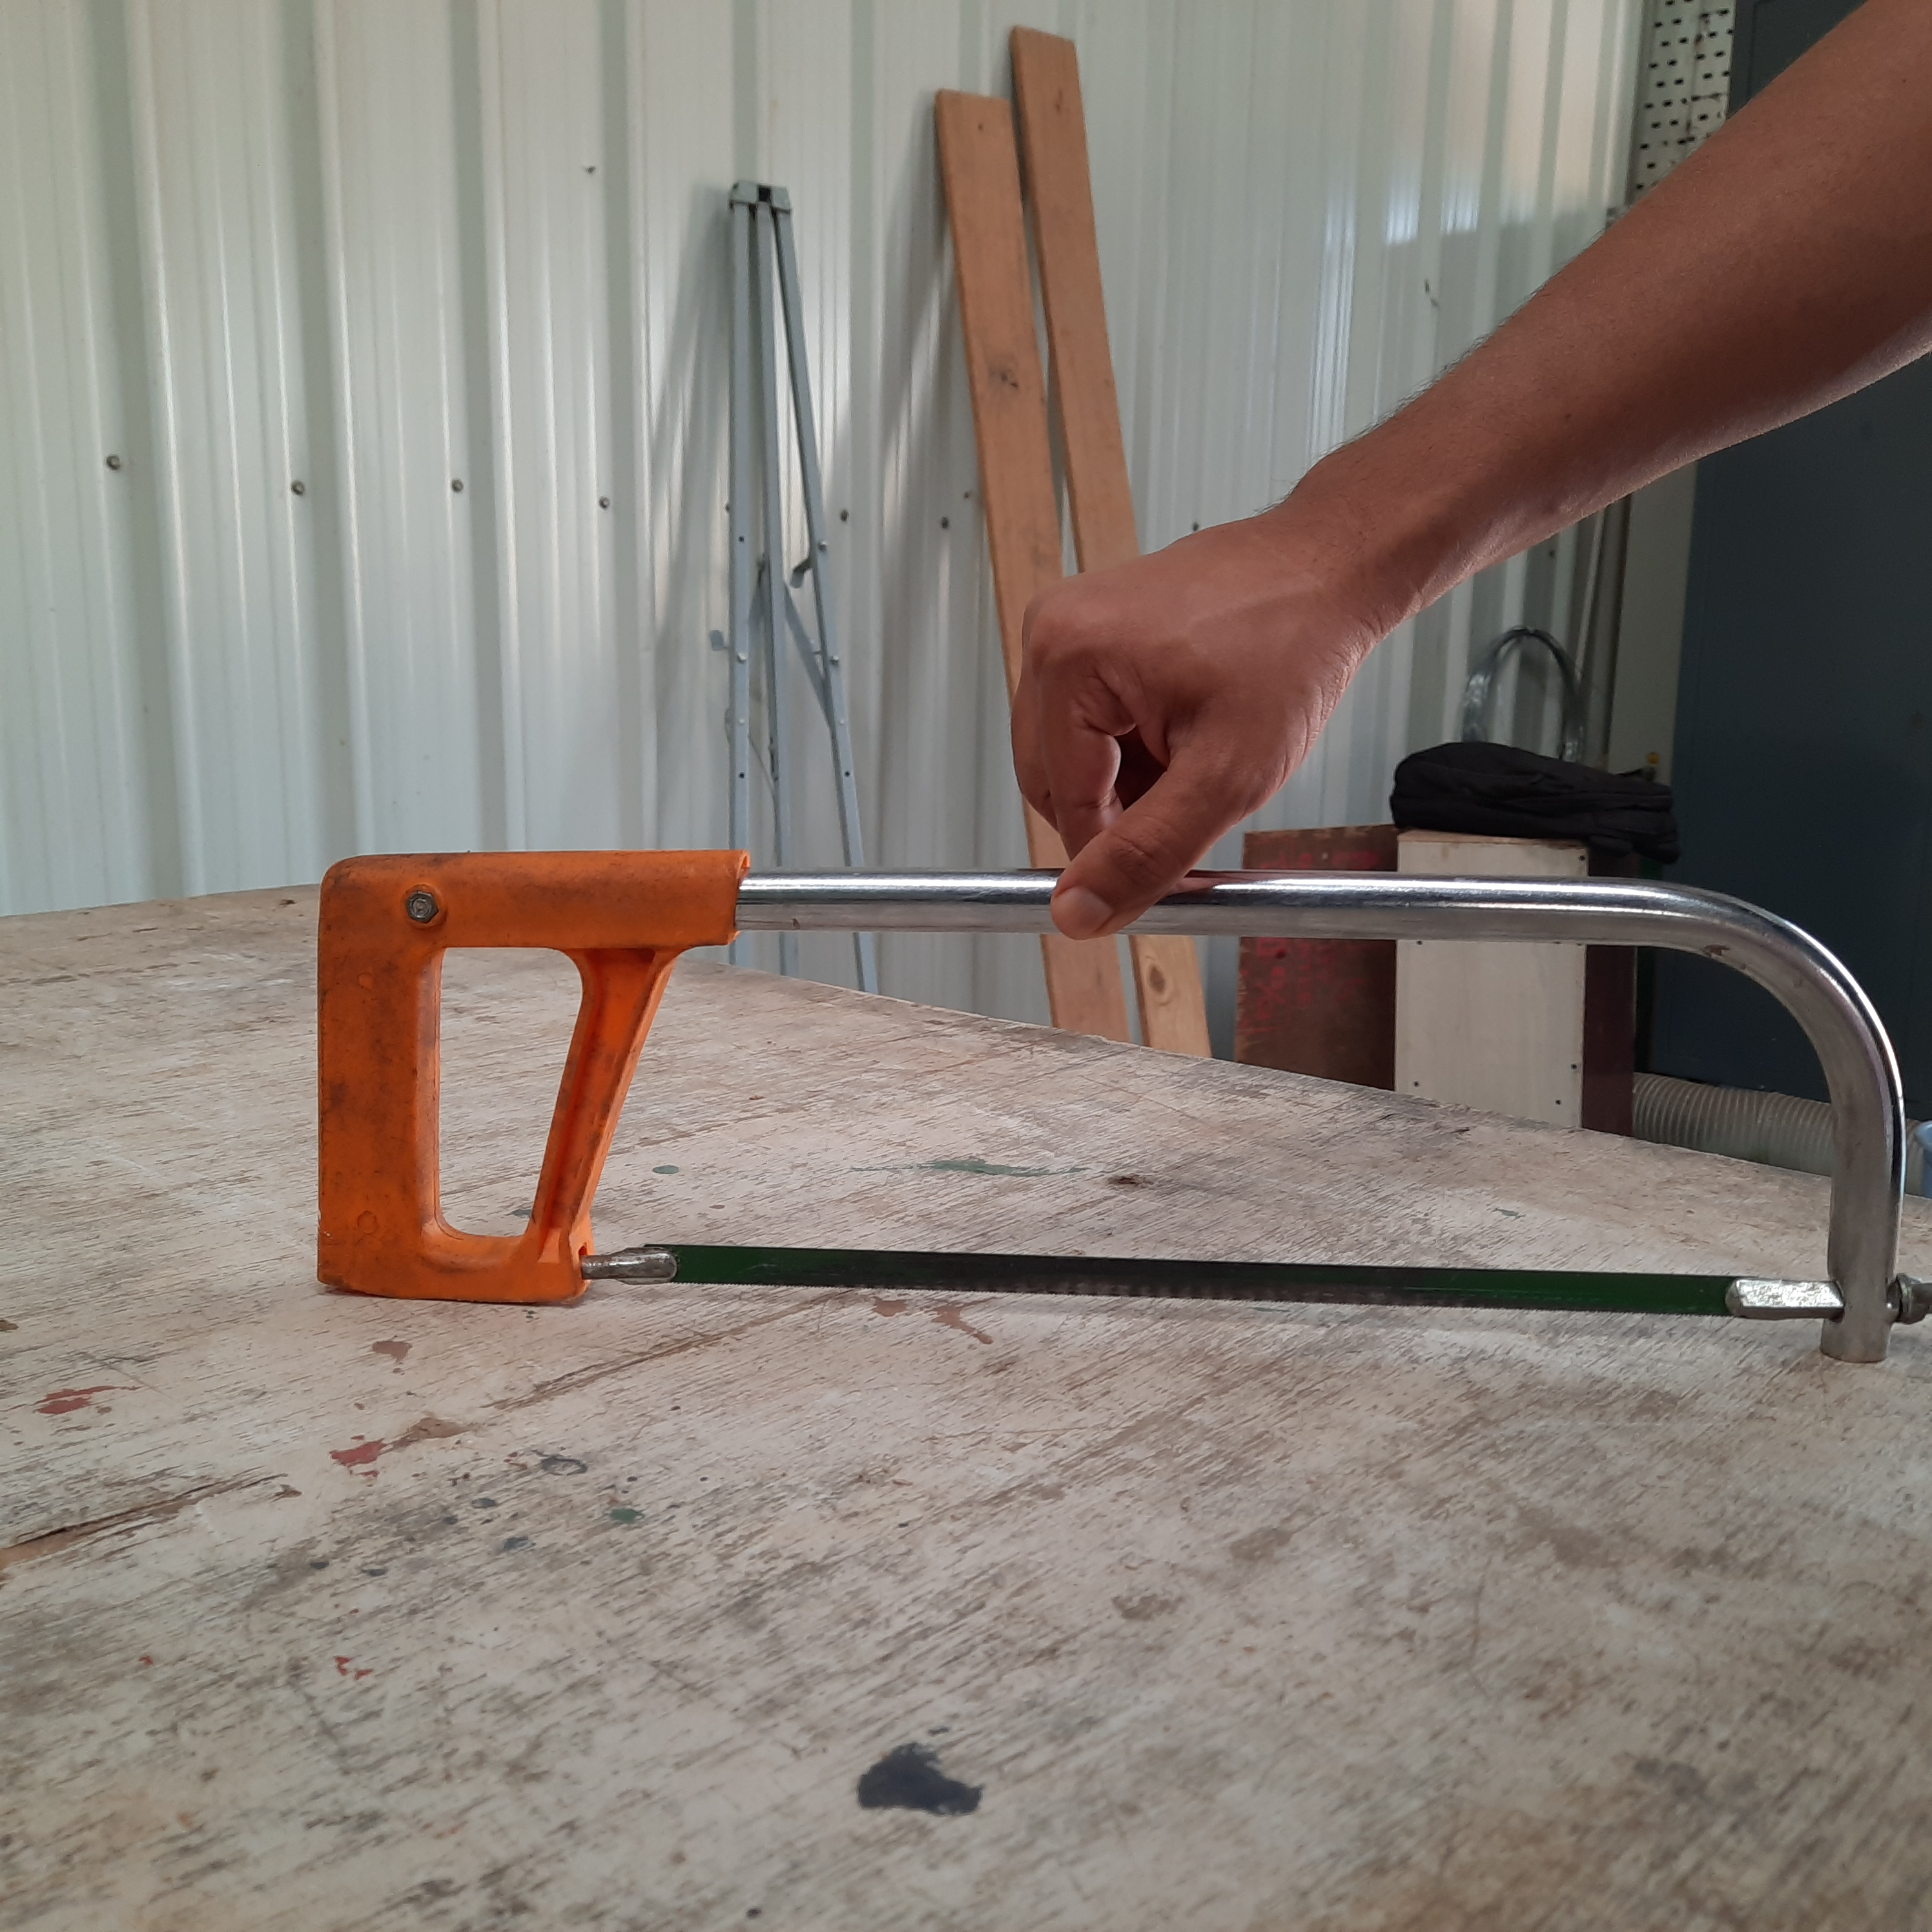Hexaframe: (276, 778, 1932, 1387)
